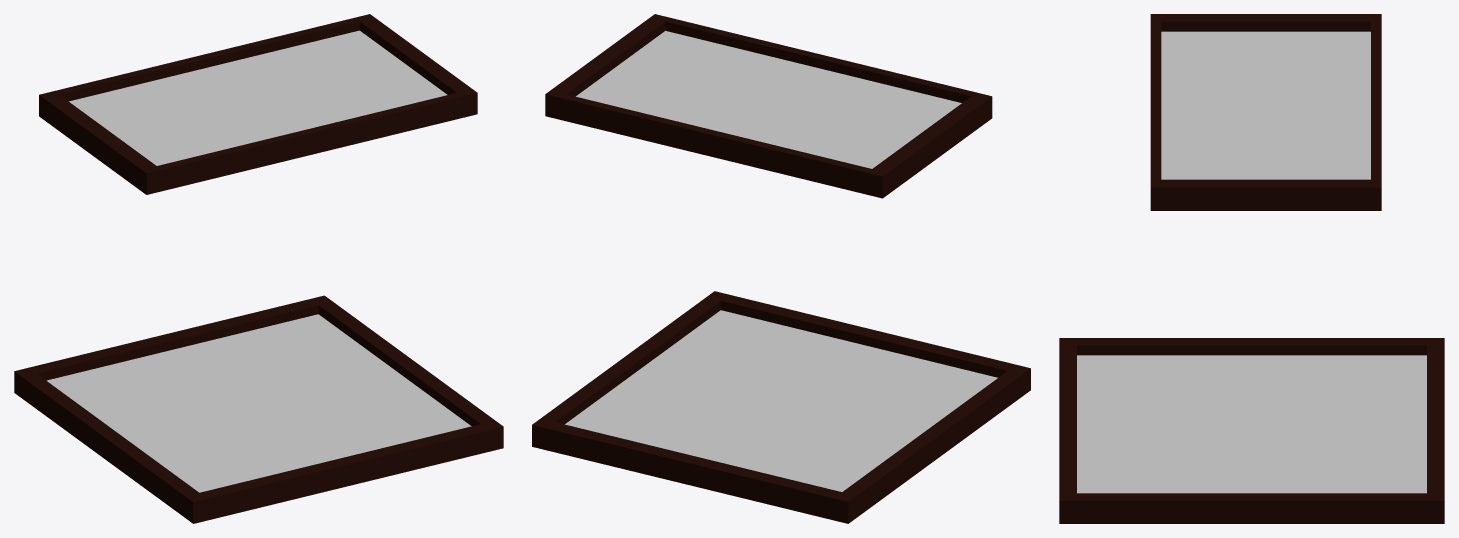
Rendered from frames.fbx.
3 views of the same model, side by side, from view 1: azimuth 30°, elevation 25°; view 2: azimuth 150°, elevation 25°; view 3: azimuth 270°, elevation 25° (orthographic). The views are drawn at different scales.
Parts seen in each view (by area): view 1: Cube.015, Cube.016; view 2: Cube.015, Cube.016; view 3: Cube.015, Cube.016.
Part boxes in pixels (left/top/right/bottom): Cube.015: left=14, top=295, right=503, bottom=523; Cube.016: left=39, top=14, right=477, bottom=194; Cube.015: left=532, top=291, right=1030, bottom=523; Cube.016: left=545, top=14, right=992, bottom=198; Cube.015: left=1059, top=338, right=1444, bottom=523; Cube.016: left=1150, top=14, right=1381, bottom=210.
Bounding box in the file's own units: 16 × 14.81 × 15.
